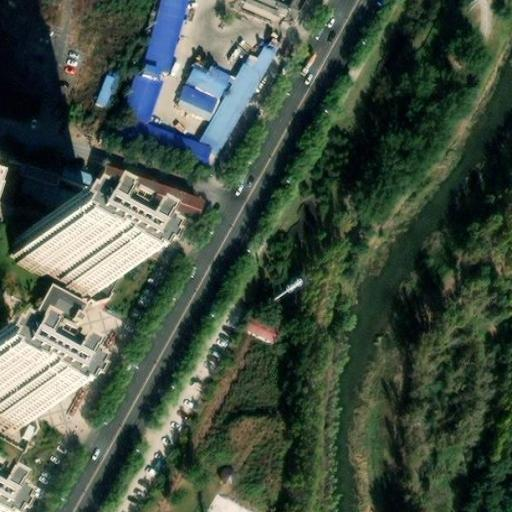building: (10, 224, 103, 299), (178, 61, 228, 120), (0, 379, 31, 433), (0, 460, 31, 511), (240, 310, 279, 342), (206, 493, 255, 512), (96, 75, 117, 111)
